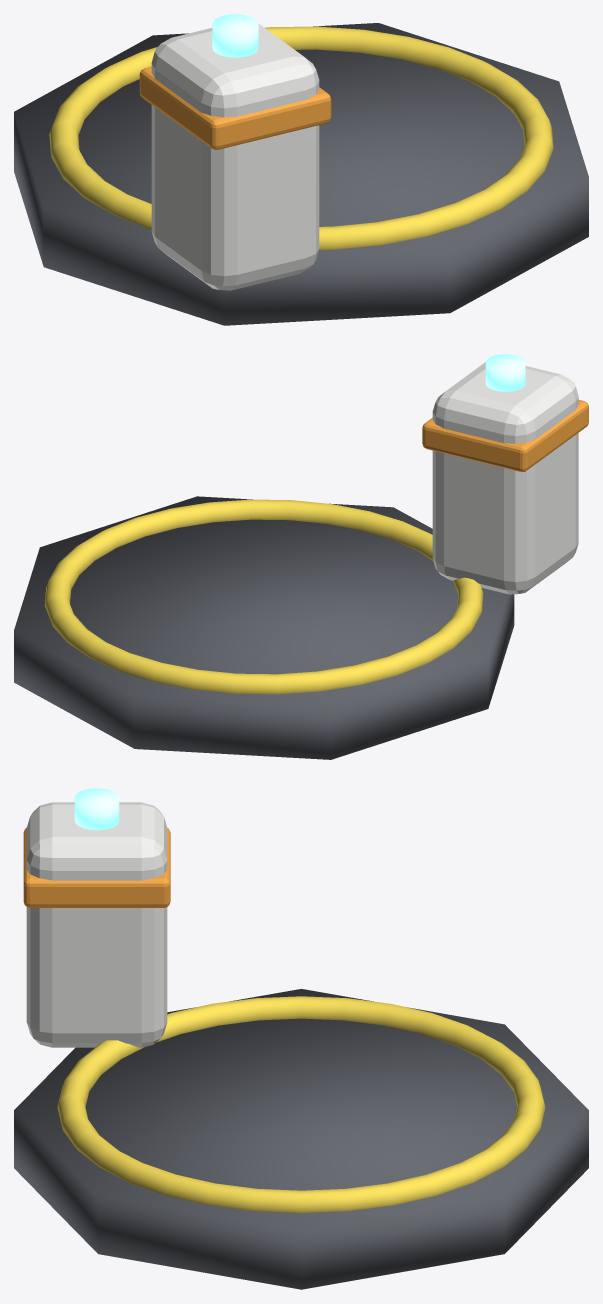
Rendered from drone_dock.glb.
3 renders of one model, top to bottom at view 1: azimuth 30°, elevation 25°; view 2: azimuth 150°, elevation 25°; view 3: azimuth 270°, elevation 25°, orthographic. The views are drawn at different scales.
Visible parts, largest first — view 1: DockPad, PumpBox, DockRing, PumpStripe, PumpLight; view 2: DockPad, PumpBox, DockRing, PumpStripe, PumpLight; view 3: DockPad, PumpBox, DockRing, PumpStripe, PumpLight.
Part boxes in pixels (<box>): DockPad: <box>14,23,588,325</box>; PumpBox: <box>151,23,319,290</box>; DockRing: <box>49,26,553,249</box>; PumpStripe: <box>139,66,331,149</box>; PumpLight: <box>212,14,258,57</box>; DockPad: <box>14,496,514,759</box>; PumpBox: <box>432,362,578,594</box>; DockRing: <box>44,499,483,694</box>; PumpStripe: <box>422,400,588,472</box>; PumpLight: <box>485,354,525,391</box>; DockPad: <box>14,989,588,1289</box>; PumpBox: <box>26,802,167,1047</box>; DockRing: <box>57,996,545,1212</box>; PumpStripe: <box>23,827,170,907</box>; PumpLight: <box>74,788,119,830</box>.
Size of the model in its own units: 0.9 by 0.5 by 0.9.
